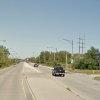Car: (50, 63, 68, 80)
